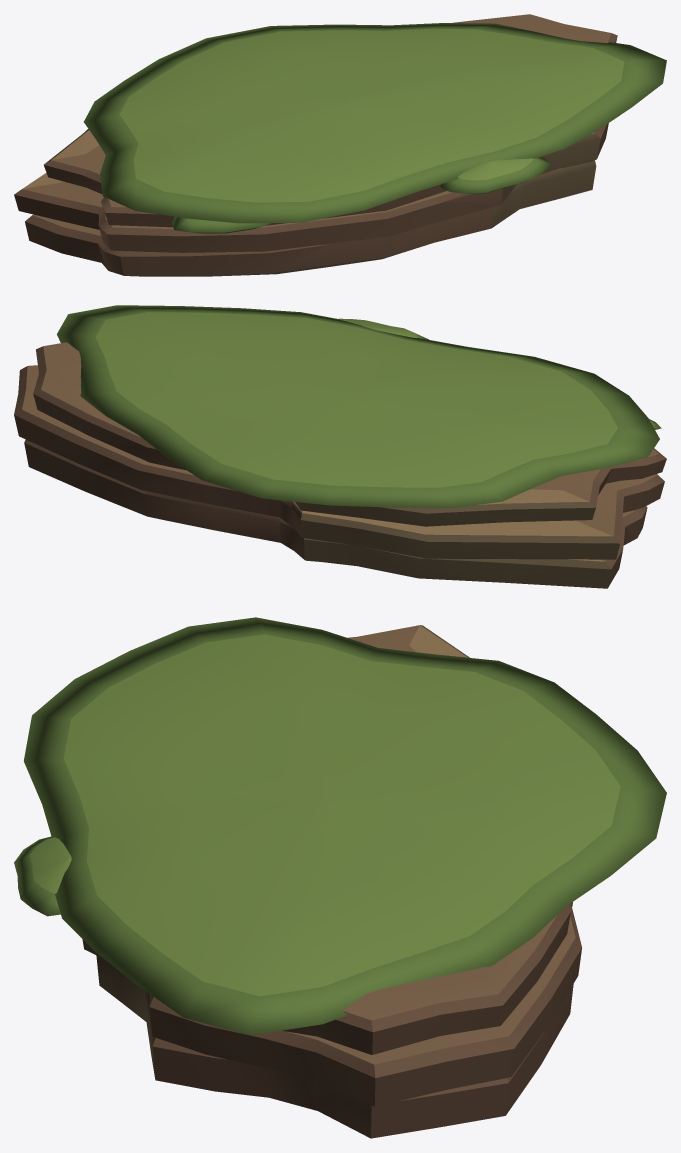
The model's file is fw_terrain_grass_profile.hi.glb.
The picture shows the model from 3 angles, top to bottom: view 1: azimuth 30°, elevation 25°; view 2: azimuth 150°, elevation 25°; view 3: azimuth 270°, elevation 25°; orthographic projection. The views are drawn at different scales.
Parts seen in each view (by area): view 1: body; view 2: body; view 3: body.
Part boxes in pixels (x1,y1,x2,y2): body: [14, 14, 666, 276]; body: [14, 305, 666, 588]; body: [14, 617, 666, 1138].
Bounding box in the file's own units: 4.27 × 0.65 × 2.64.
